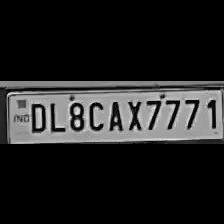1: (200, 95, 220, 129)
7: (160, 95, 180, 129), (180, 95, 200, 129), (142, 94, 160, 130)
8: (65, 97, 85, 131)
A: (104, 96, 124, 132)
C: (85, 96, 105, 132)
D: (26, 98, 46, 132)
L: (46, 96, 64, 132)
X: (124, 96, 144, 132)
